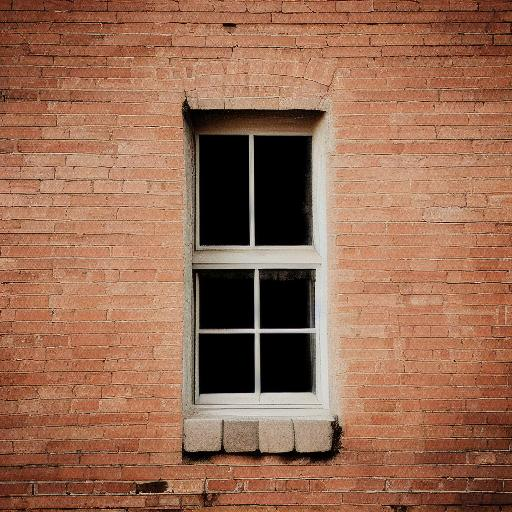Window: (174, 90, 344, 462)
